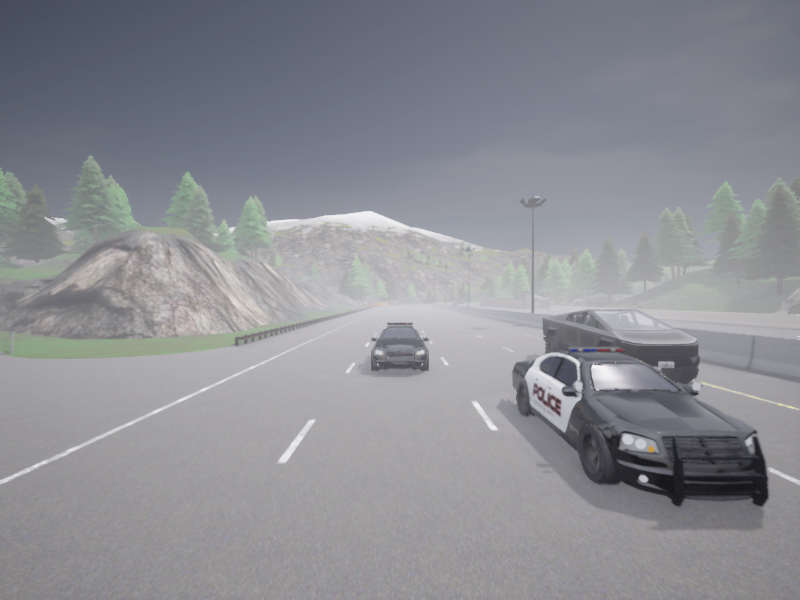vehicle: (512, 347, 768, 506), (542, 309, 699, 383), (371, 322, 428, 371), (459, 301, 465, 304), (452, 302, 456, 304)
